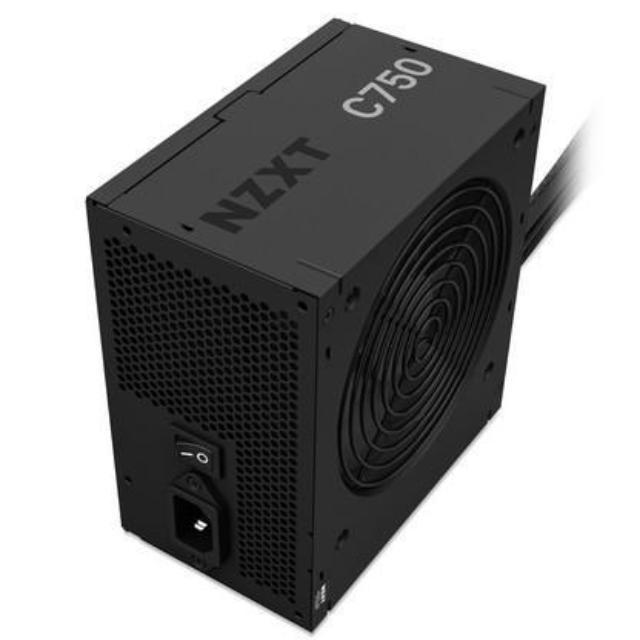PSU: (63, 12, 557, 638)
